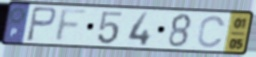4: (126, 10, 155, 48)
5: (96, 9, 125, 45)
8: (167, 13, 194, 49)
C: (196, 14, 228, 49)
F: (52, 7, 91, 44)
P: (25, 6, 59, 44)
